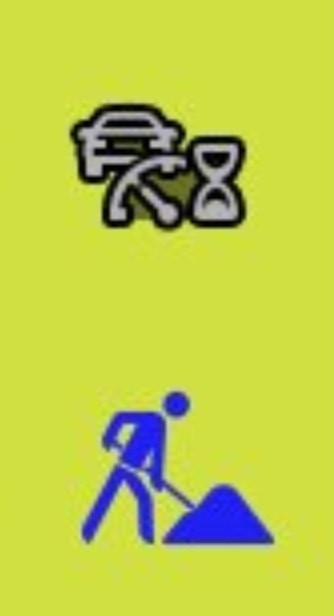ACC_WAITING: (52, 87, 281, 244)
CONSTRUCTION: (49, 377, 294, 569)
